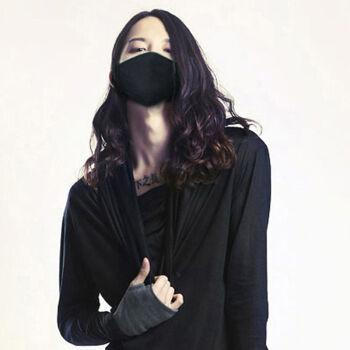OK: (118, 32, 192, 106)
